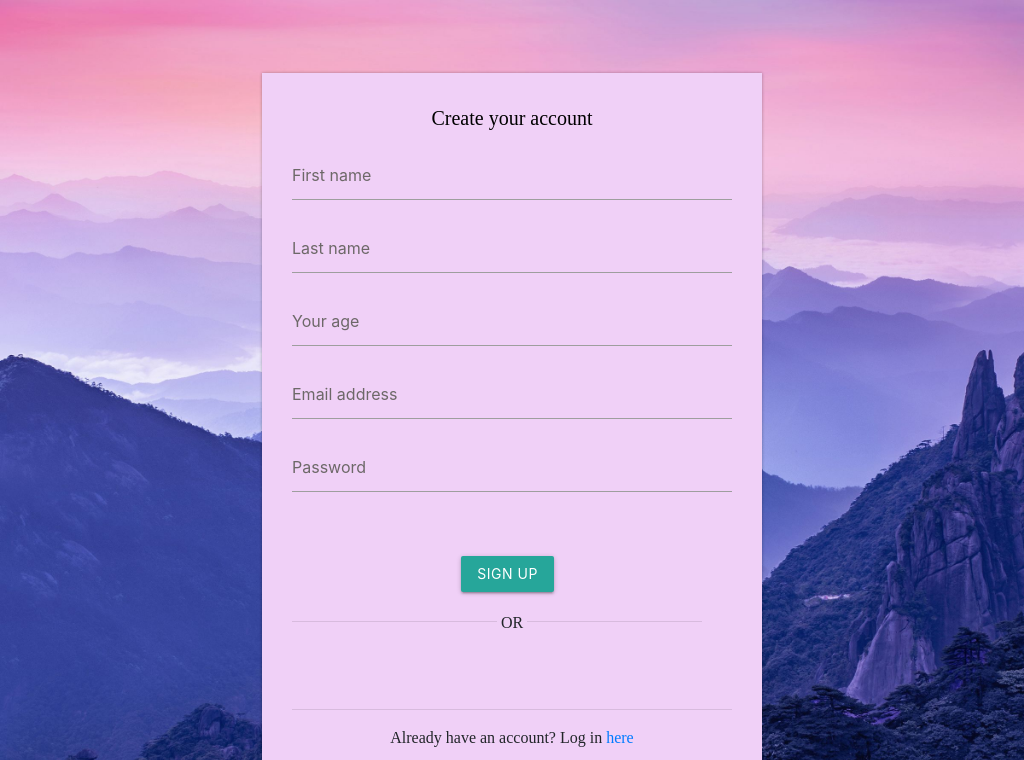
Test: Empty fields validation
Clear the field with test id "age". click: (512, 322)
box: top-left (292, 297), bottom-right (732, 346)
(page scrolled)
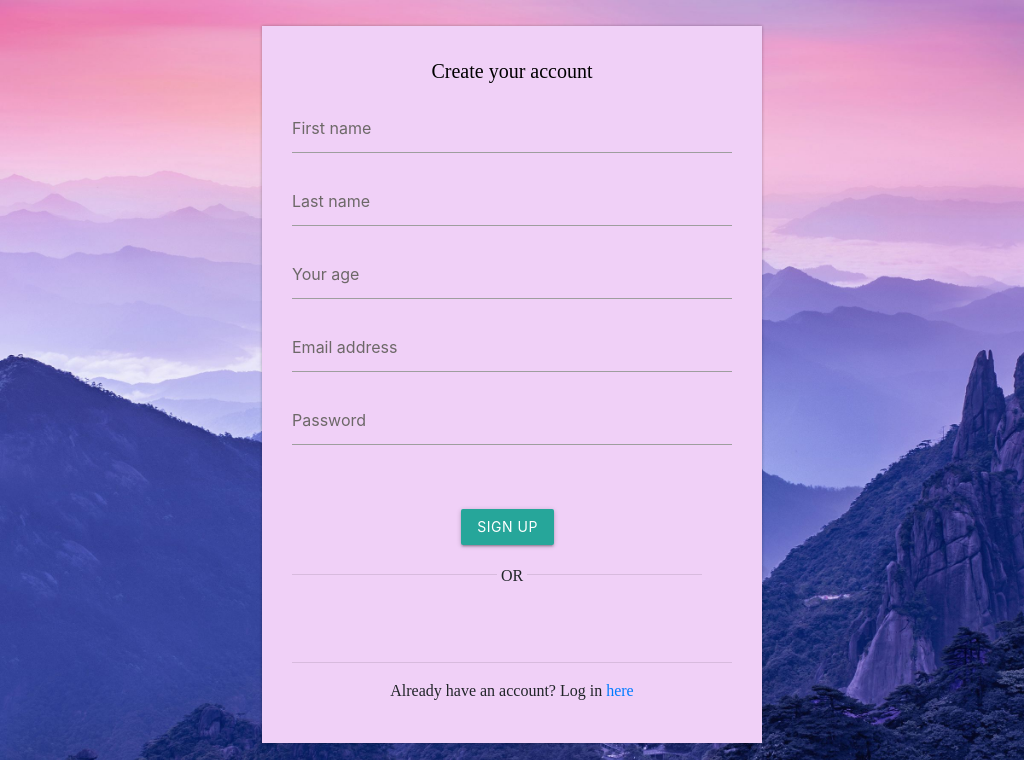
Submit the form with test id "form", box top-left (262, 26), bottom-right (762, 743)
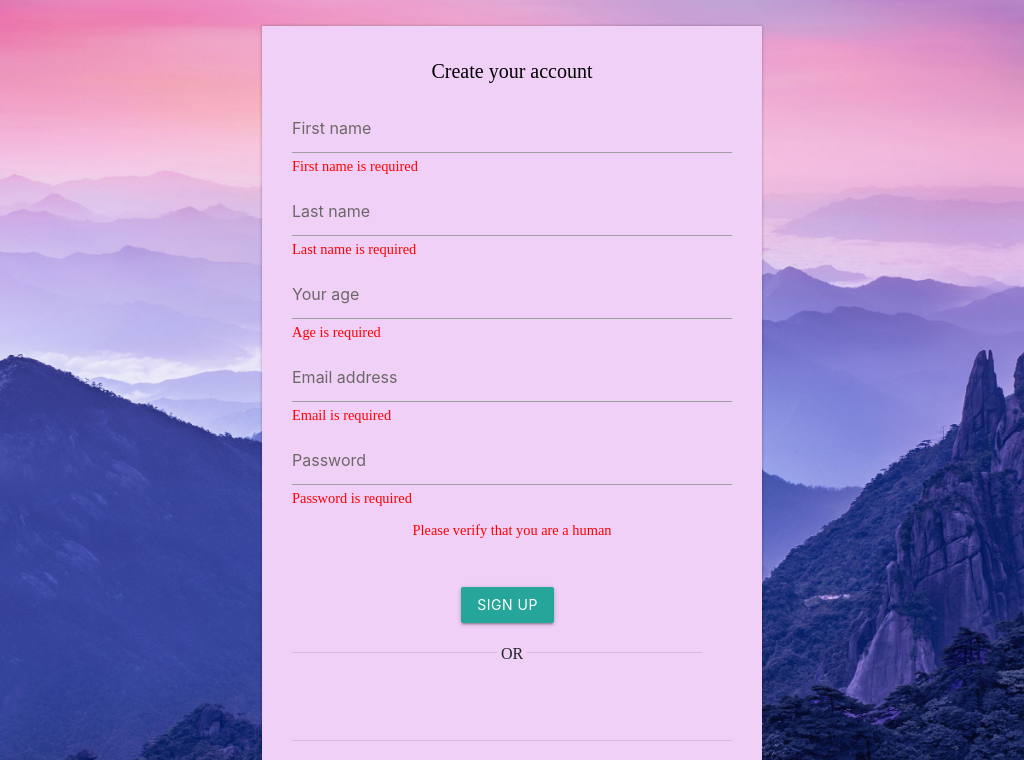
Expected: the text "Email is required" is shown, top-left (292, 407), bottom-right (391, 423)
Expected: the text "Password is required" is shown, top-left (292, 490), bottom-right (412, 506)
Expected: the text "First name is required" is shown, top-left (292, 158), bottom-right (418, 174)
